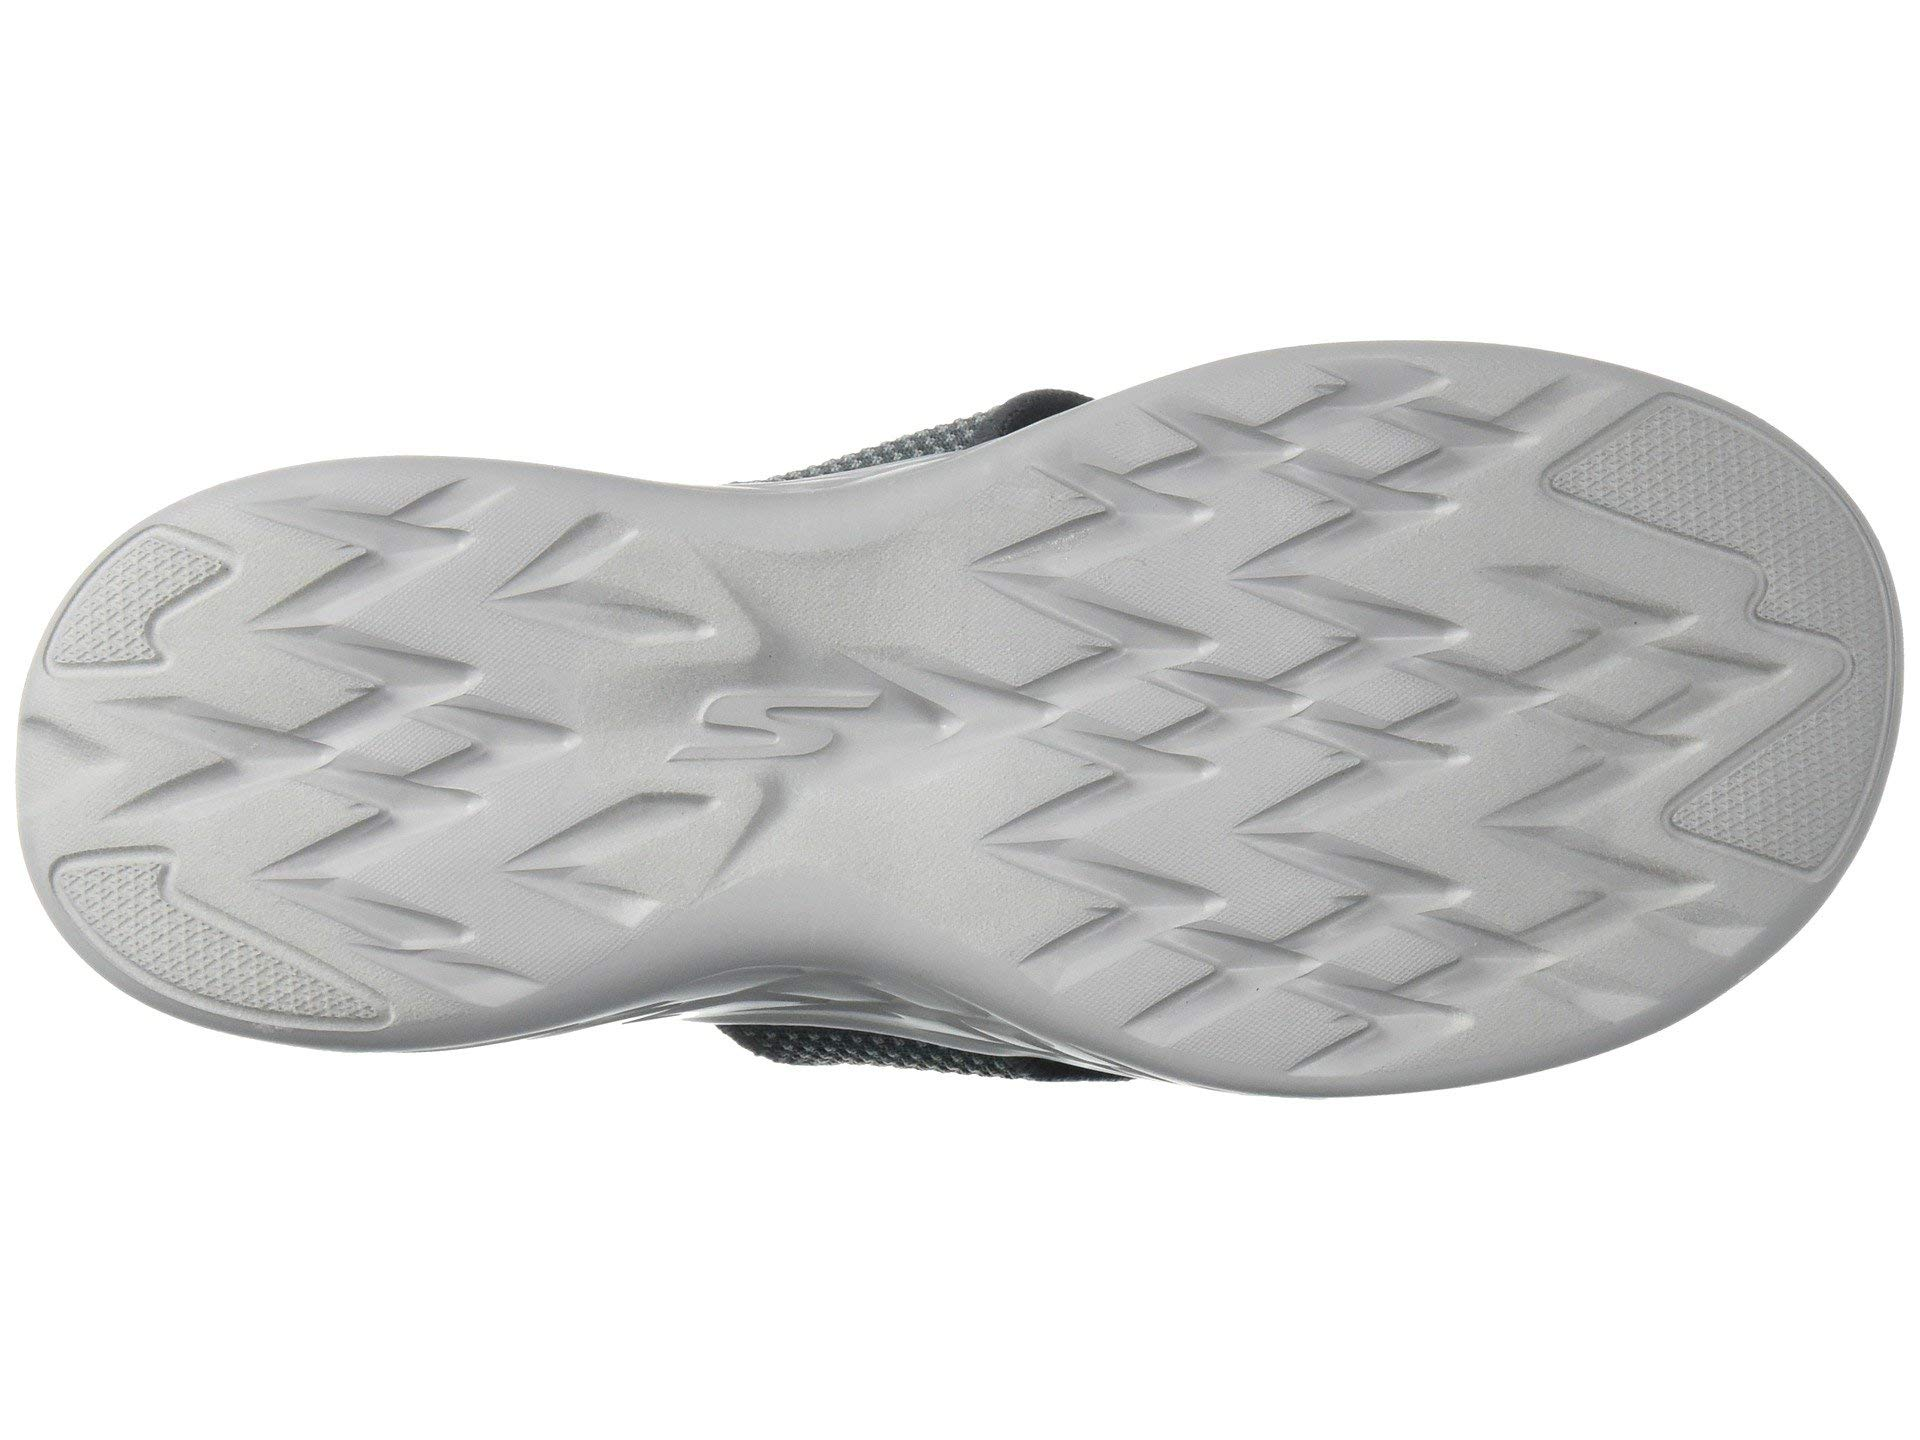text: (661, 663, 877, 815)
